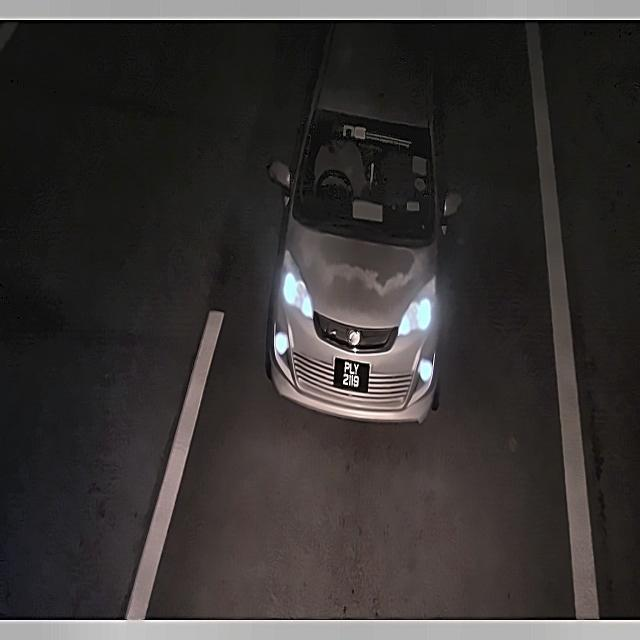car: (332, 351, 374, 398)
